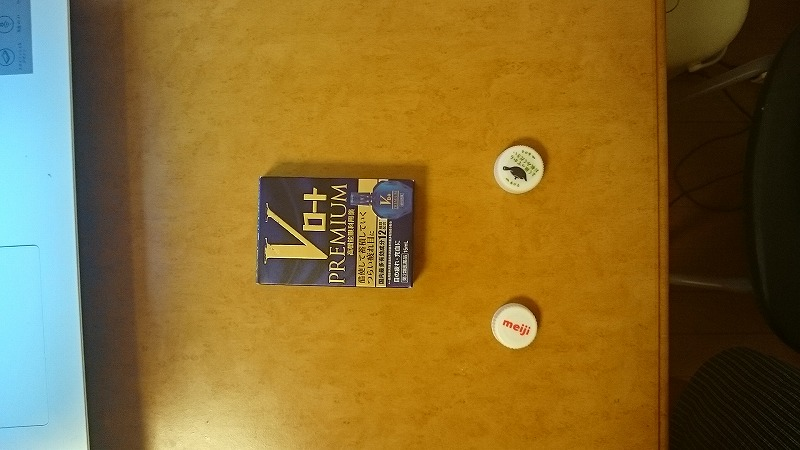A: (492, 143, 549, 201)
B: (494, 297, 544, 350)
D: (251, 167, 419, 300)
